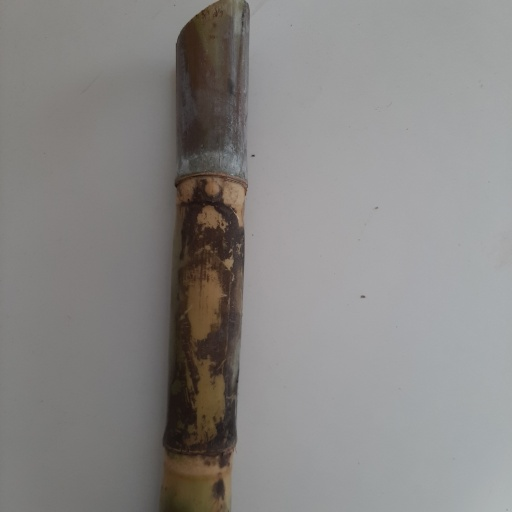Bud: (201, 177, 225, 201)
